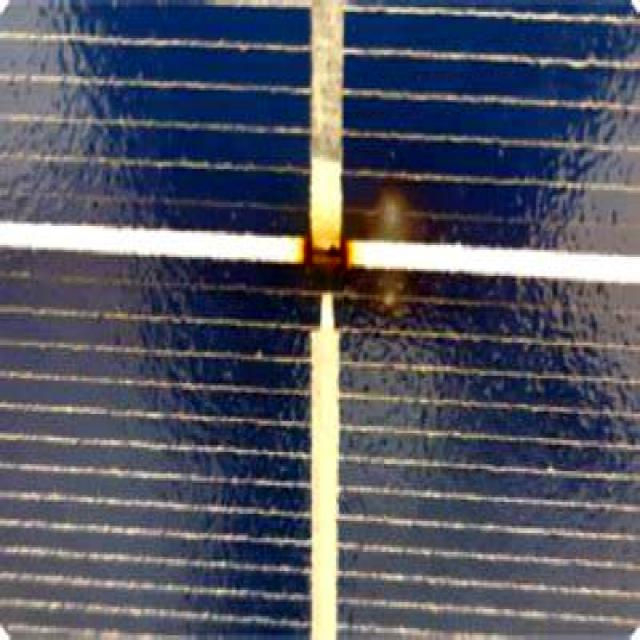shadow: (255, 134, 434, 362)
